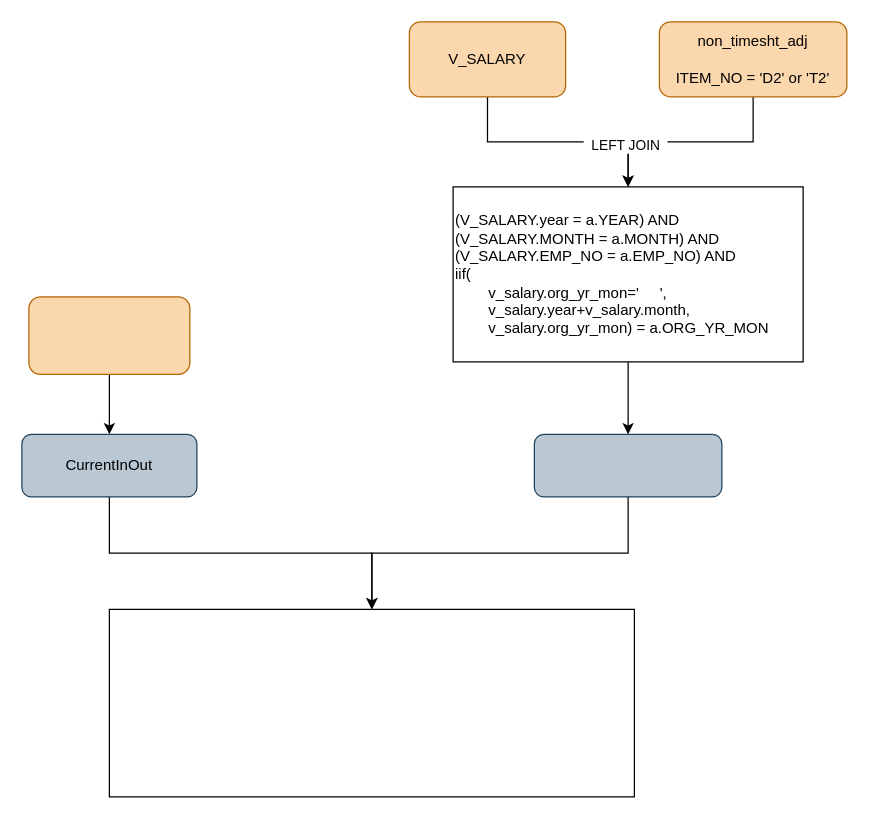
The diagram is 869 pixels wide and 819 high, and some of its shapes have lost their labels. Here are the shapes that lost their labels. From the top down, the box of each, then its label:
(28, 296, 190, 374): EMPNO ENDCODE is Null
(533, 433, 722, 497): v_salary1
